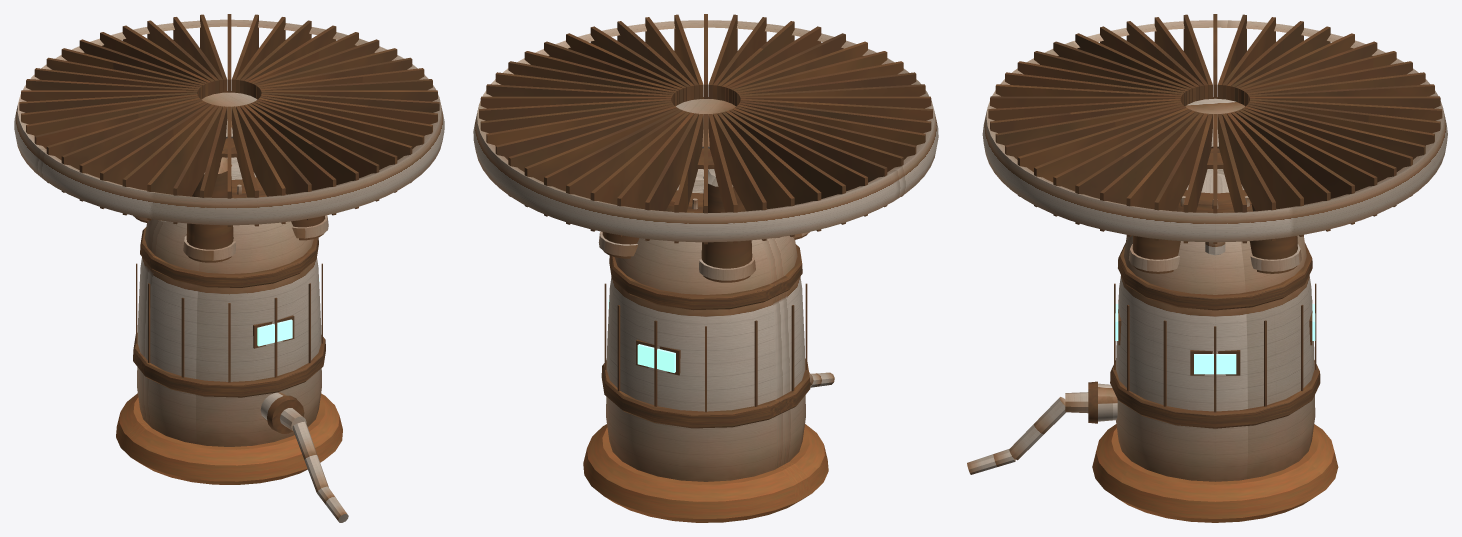
The model's file is kilopower.glb.
The picture shows the model from 3 angles, left to right: view 1: azimuth 30°, elevation 25°; view 2: azimuth 150°, elevation 25°; view 3: azimuth 270°, elevation 25°; orthographic projection. The views are drawn at different scales.
Visible parts, largest first — view 1: Fins, Body, HatRim, Skirt, Band0, Band1, Pod3, Cable, UmbRing, HatHub, Win0, PodCollar3 (+1 smaller); view 2: Fins, Body, HatRim, Skirt, Band0, Band1, Pod2, Win2, HatHub, PodCollar2; view 3: Fins, Body, HatRim, Skirt, Band0, Band1, Cable, Pod0, Pod1, Win1, HatHub, Shield (+4 smaller).
Boxes of the visible parts, x1=… form: Fins: x1=19, y1=14, x2=439, y2=226; Body: x1=137, y1=157, x2=321, y2=446; HatRim: x1=14, y1=19, x2=444, y2=225; Skirt: x1=116, y1=393, x2=342, y2=484; Band0: x1=133, y1=333, x2=325, y2=397; Band1: x1=140, y1=227, x2=318, y2=287; Pod3: x1=186, y1=171, x2=233, y2=262; Cable: x1=292, y1=421, x2=328, y2=492; UmbRing: x1=267, y1=395, x2=304, y2=433; HatHub: x1=201, y1=92, x2=257, y2=138; Win0: x1=257, y1=319, x2=292, y2=346; PodCollar3: x1=183, y1=235, x2=235, y2=260; Fins: x1=479, y1=14, x2=932, y2=244; Body: x1=606, y1=169, x2=805, y2=481; HatRim: x1=473, y1=20, x2=938, y2=242; Skirt: x1=583, y1=424, x2=828, y2=522; Band0: x1=601, y1=359, x2=810, y2=428; Band1: x1=609, y1=244, x2=802, y2=310; Pod2: x1=701, y1=183, x2=752, y2=282; Win2: x1=637, y1=344, x2=675, y2=372; HatHub: x1=676, y1=99, x2=735, y2=148; PodCollar2: x1=699, y1=253, x2=755, y2=280; Fins: x1=988, y1=14, x2=1442, y2=243; Body: x1=1116, y1=169, x2=1315, y2=481; HatRim: x1=982, y1=20, x2=1447, y2=242; Skirt: x1=1092, y1=424, x2=1338, y2=522; Band0: x1=1110, y1=360, x2=1320, y2=428; Band1: x1=1118, y1=243, x2=1312, y2=310; Cable: x1=1009, y1=397, x2=1065, y2=460; Pod0: x1=1132, y1=204, x2=1180, y2=273; Pod1: x1=1249, y1=204, x2=1297, y2=273; Win1: x1=1194, y1=354, x2=1236, y2=374; HatHub: x1=1185, y1=98, x2=1244, y2=148; Shield: x1=1177, y1=190, x2=1252, y2=212.
Size of the model in its own units: 2.42 by 2.16 by 2.5.
Materials: 10 (8 with a texture image).
